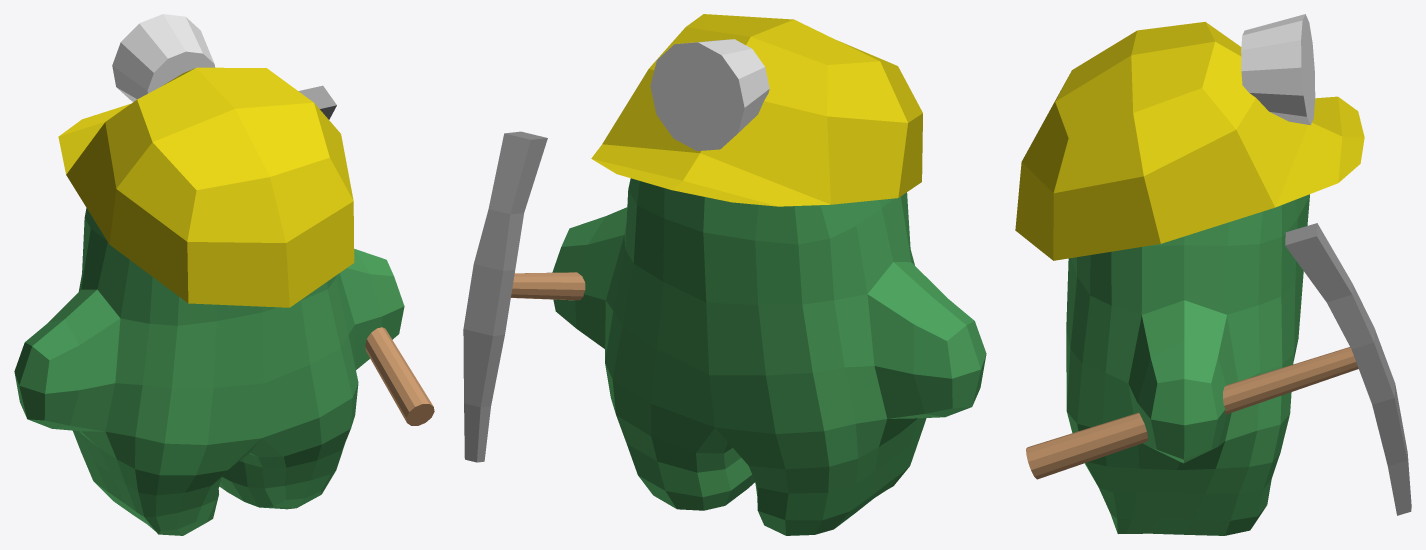
Rendered from blob.fbx.
The picture shows the model from 3 angles, left to right: view 1: azimuth 30°, elevation 25°; view 2: azimuth 150°, elevation 25°; view 3: azimuth 270°, elevation 25°; orthographic projection. The views are drawn at different scales.
Visible parts, largest first — view 1: body, helmet.002, light.001, handle.002, iron; view 2: body, helmet.002, iron, light.001, handle.002; view 3: body, helmet.002, iron, handle.002, light.001.
Part boxes in pixels (x1,y1,x2,y2): body: [14, 208, 404, 535]; helmet.002: [58, 67, 354, 307]; light.001: [112, 14, 215, 101]; handle.002: [365, 327, 434, 425]; iron: [298, 85, 336, 119]; body: [552, 178, 986, 535]; helmet.002: [591, 14, 922, 206]; iron: [463, 131, 547, 462]; light.001: [650, 39, 769, 150]; handle.002: [511, 272, 585, 300]; body: [1066, 194, 1309, 535]; helmet.002: [1015, 21, 1364, 260]; iron: [1285, 223, 1411, 515]; handle.002: [1026, 347, 1358, 479]; light.001: [1241, 14, 1315, 125].
Size of the model in its own units: 1.93 by 1.6 by 2.17.
